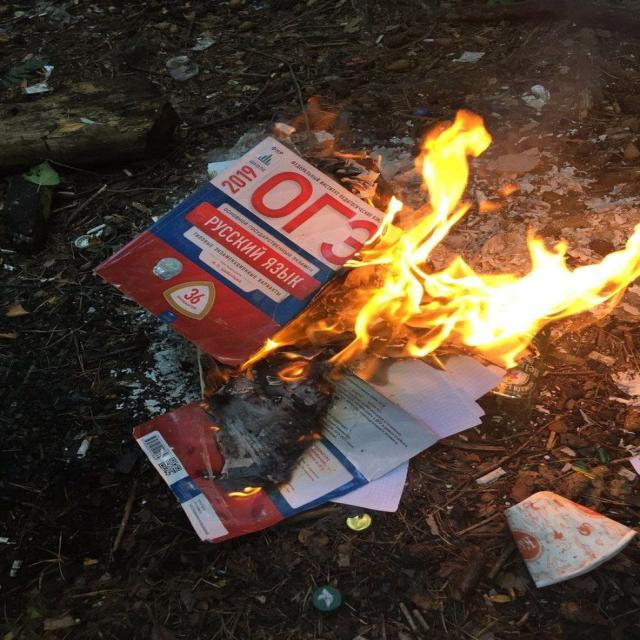fire: (326, 111, 640, 367)
